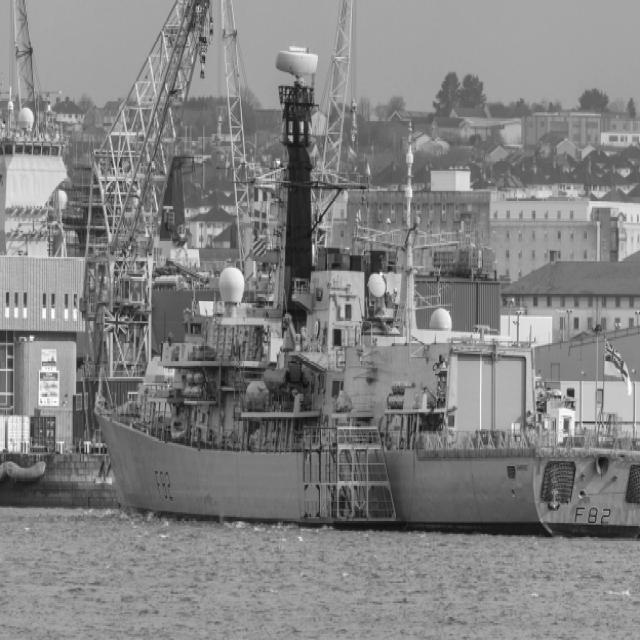Fragata: (87, 29, 640, 544)
